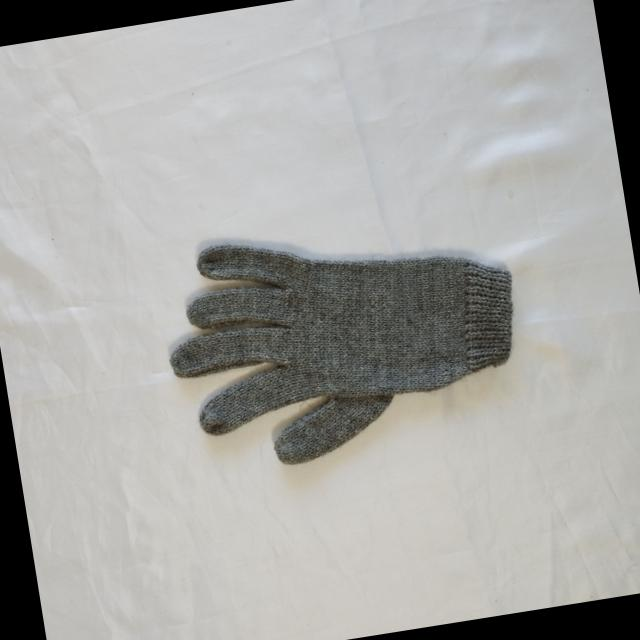Guante: (152, 198, 537, 482)
